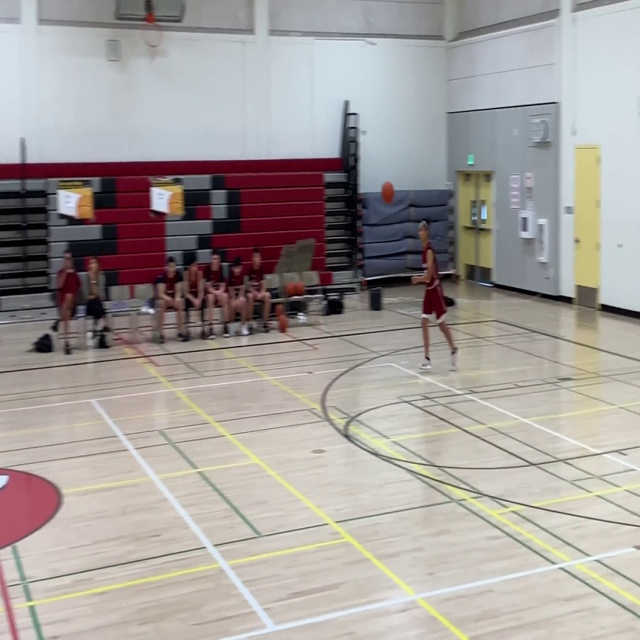Basketball: (285, 281, 305, 297), (381, 181, 394, 204), (278, 314, 287, 332)
